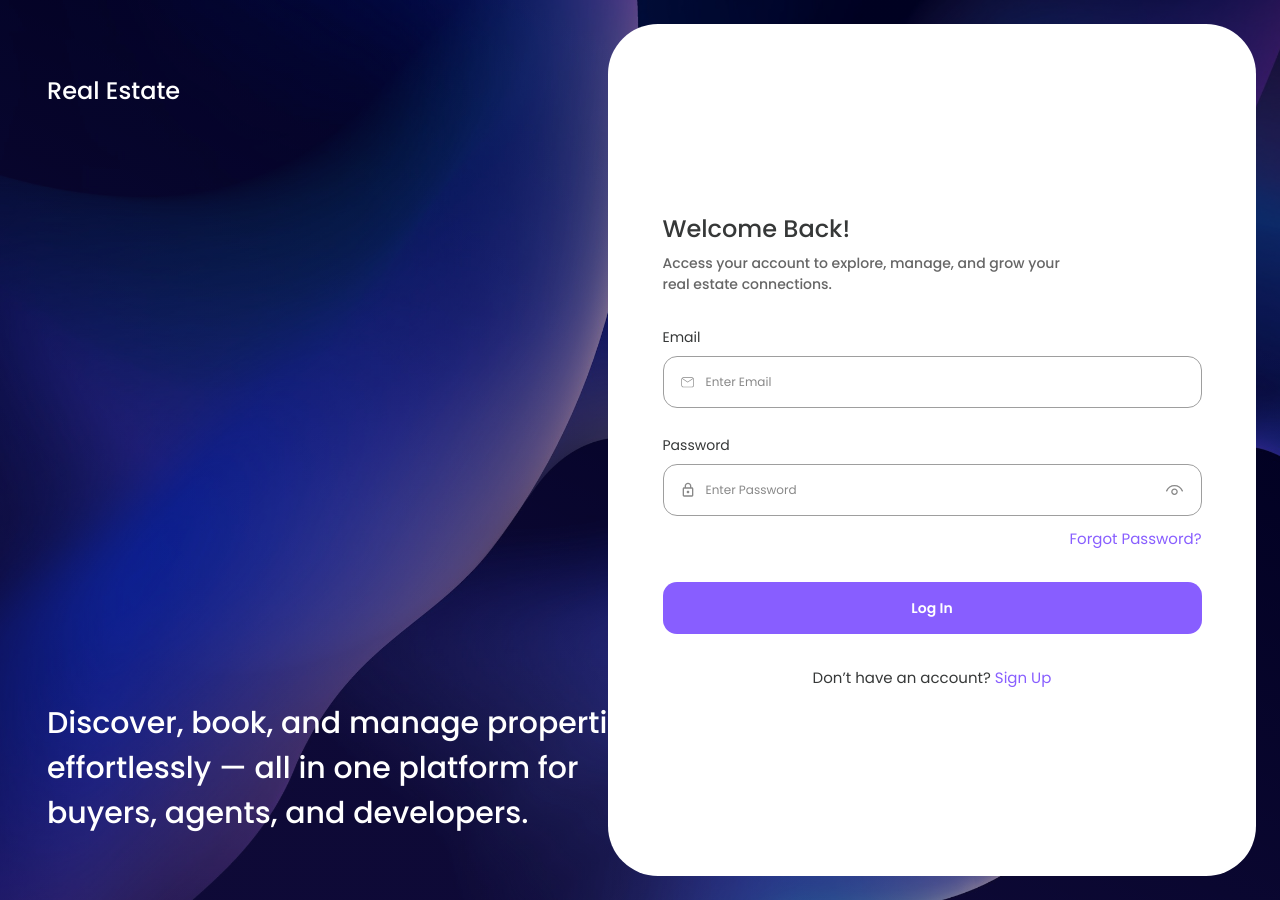
Test case: LoginPage › opens Verify with the email in the router state on 403 EMAIL_NOT_VERIFIED
The width and height of the screenshot is (1280, 900).
Type "  Sara@Example.TEST " into the field labelled "Email". click: (945, 382)
box: x1=706 y1=357 x2=1184 y2=407
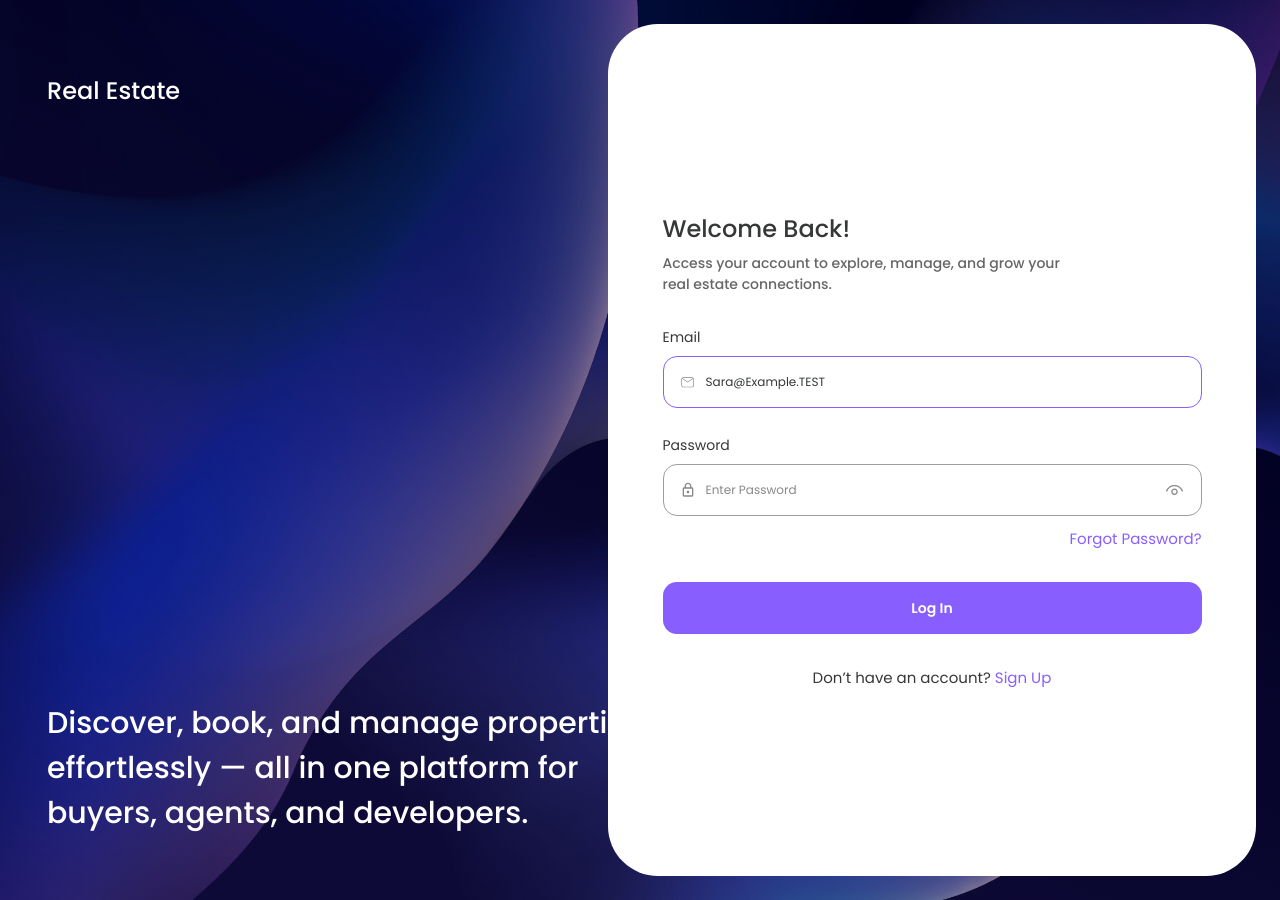
Type "secret123" into the password field labelled "Password". click: (930, 490)
box: x1=706 y1=465 x2=1154 y2=515
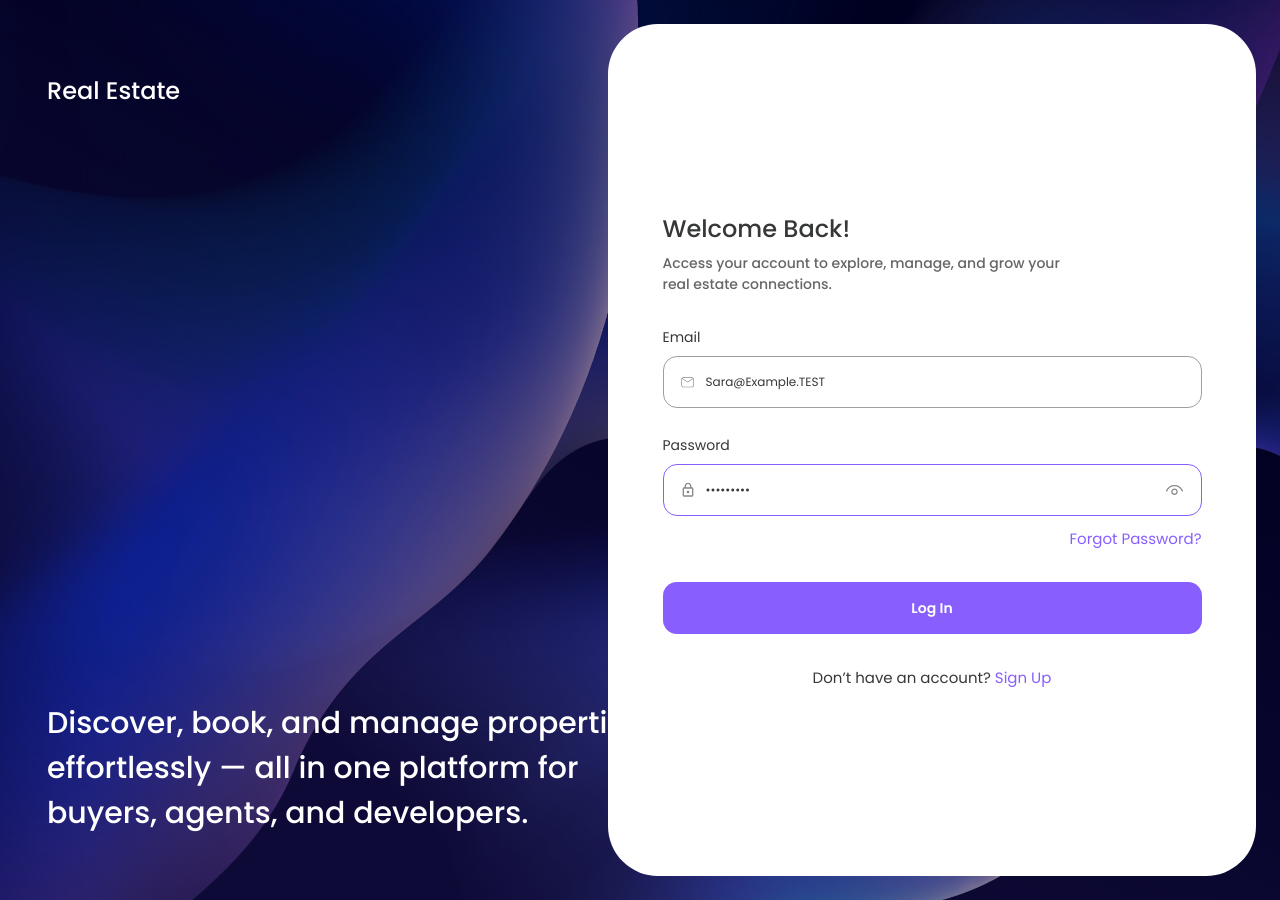
Click the button "Log In". click: (932, 608)
box: x1=662 y1=582 x2=1202 y2=634
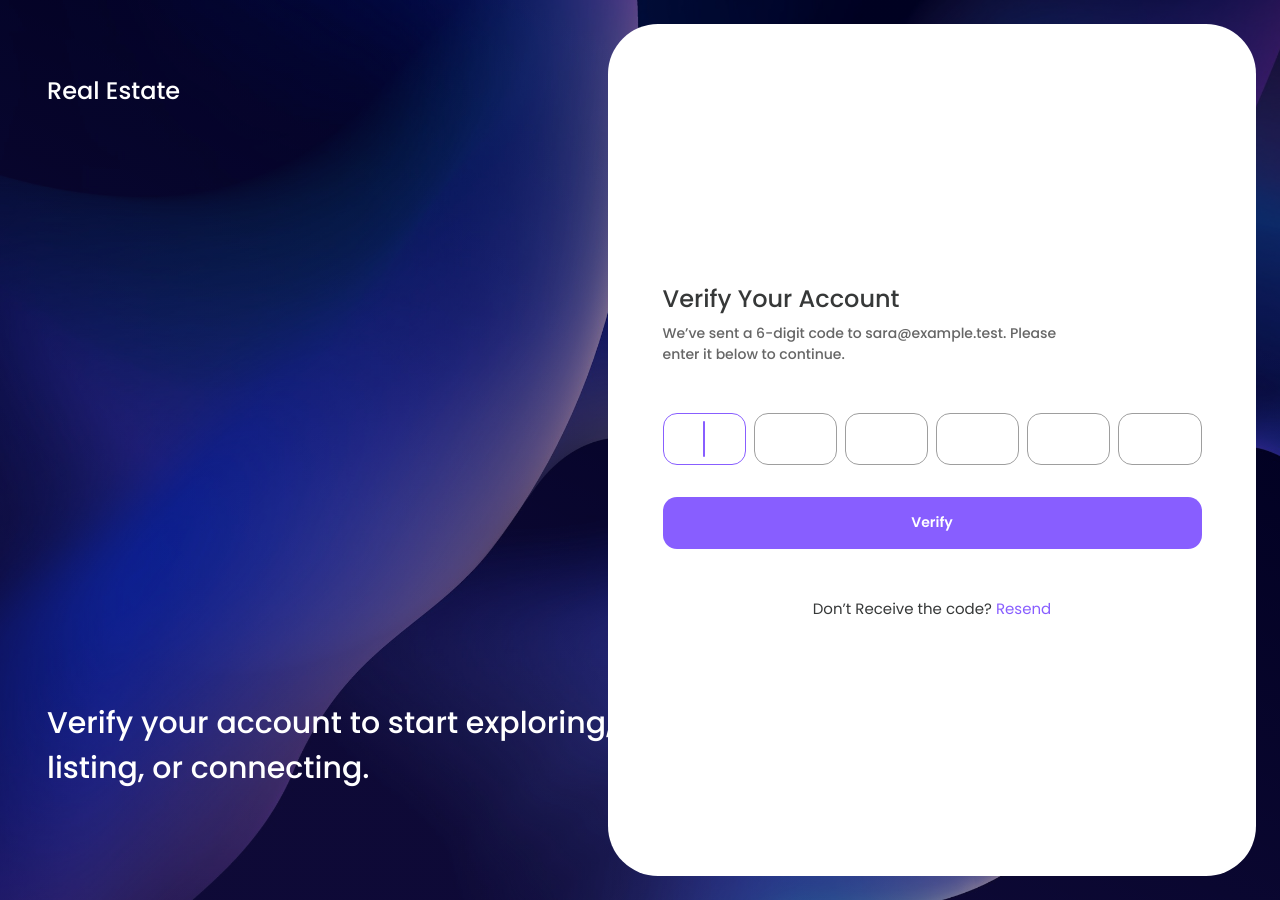
Expected: the heading "Verify Your Account" is shown, x1=662 y1=282 x2=900 y2=314
